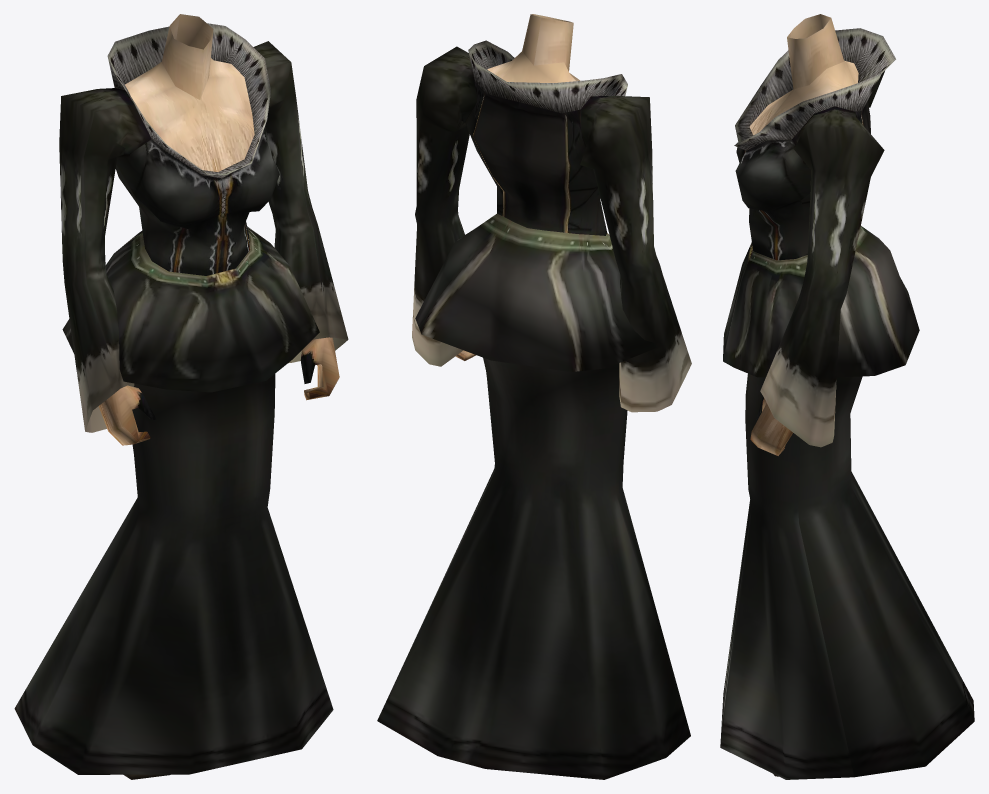
The model's file is ARMOR_VLKBABE_H.glb.
3 views of the same model, side by side, from view 1: azimuth 30°, elevation 25°; view 2: azimuth 150°, elevation 25°; view 3: azimuth 270°, elevation 25° (orthographic).
Visible parts, largest first — view 1: ARMOR_VLKBABE_H; view 2: ARMOR_VLKBABE_H; view 3: ARMOR_VLKBABE_H.
Boxes of the visible parts, x1,y1,x2,y2 form: ARMOR_VLKBABE_H: [14, 14, 348, 779]; ARMOR_VLKBABE_H: [377, 14, 691, 779]; ARMOR_VLKBABE_H: [720, 14, 974, 779].
Size of the model in its own units: 0.6642 by 1.66 by 0.5338.
2 materials, 2 textured.
